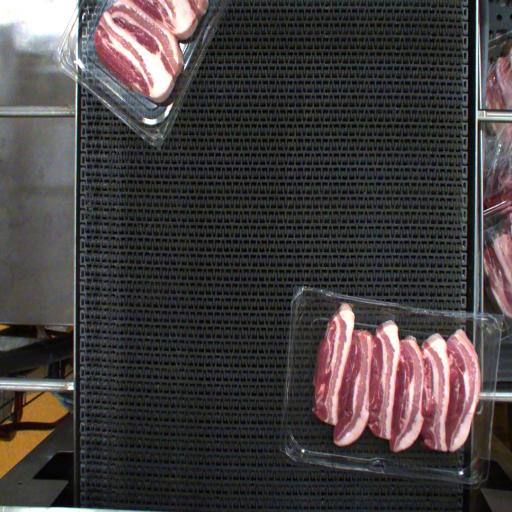packaging-error: (340, 300, 358, 316)
